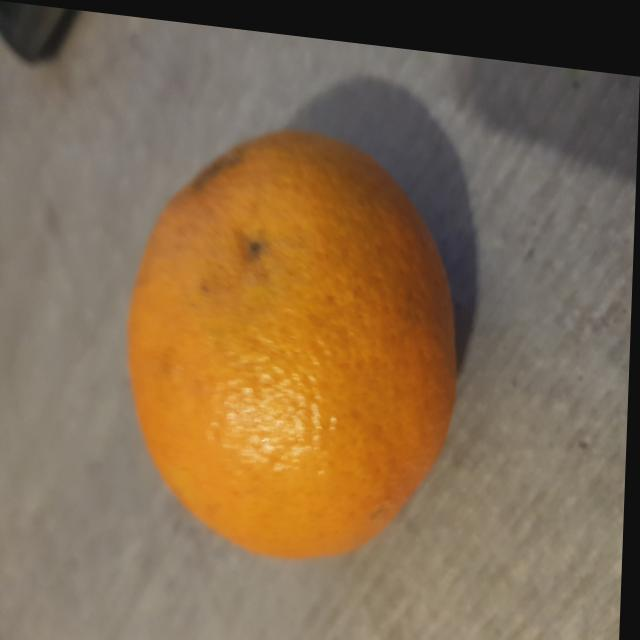Orange: (130, 120, 464, 554)
